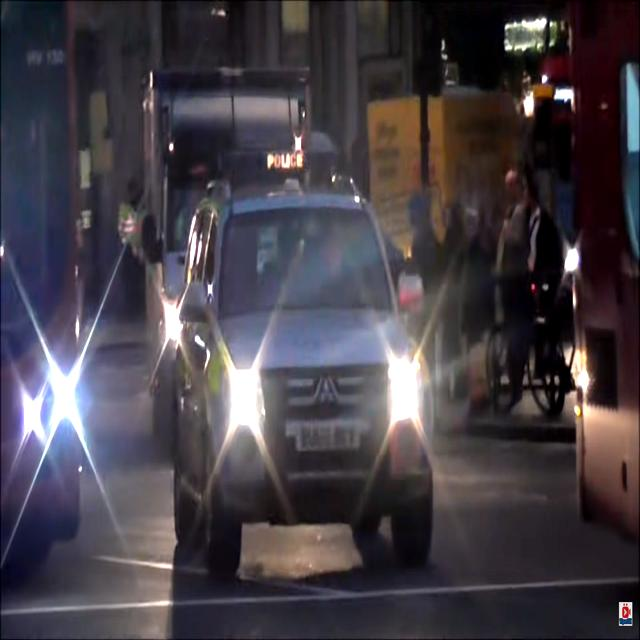emergency-vehicles: (110, 51, 335, 414)
